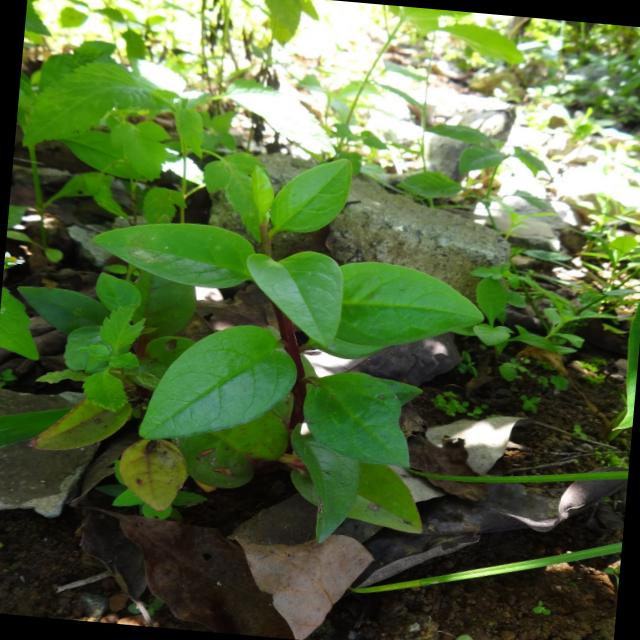Medicinal-Basale: (8, 31, 481, 542)
